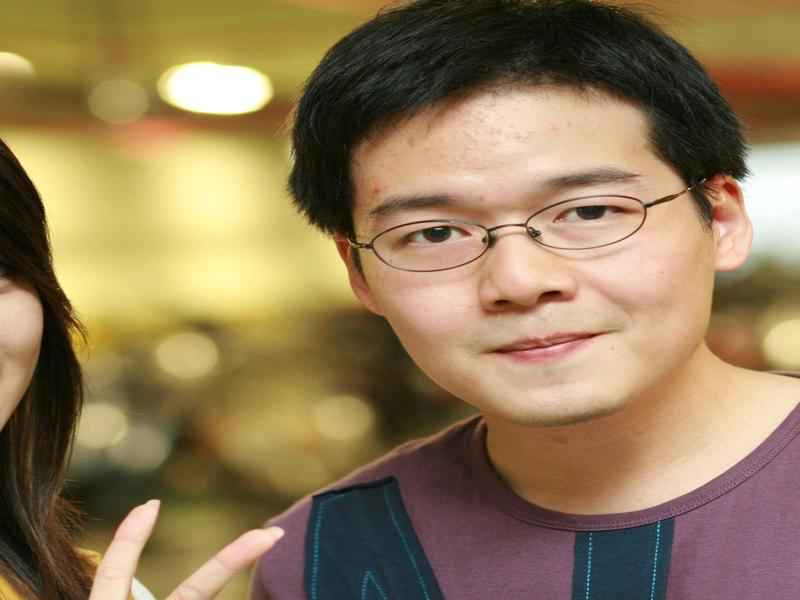person: (179, 1, 800, 599)
